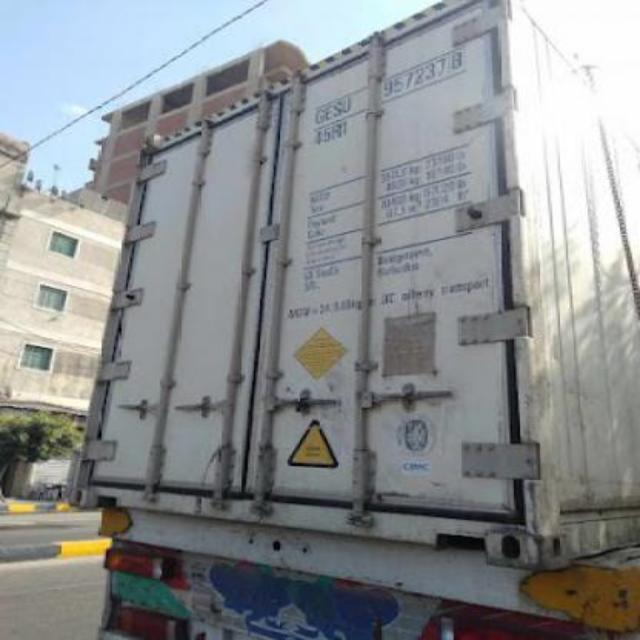2: (412, 57, 424, 83)
3: (426, 50, 436, 80)
5: (392, 68, 404, 94)
7: (404, 59, 414, 89), (436, 48, 446, 76)
8: (451, 46, 464, 70)
9: (378, 74, 394, 96)
E: (322, 100, 334, 124)
G: (310, 101, 326, 122)
S: (330, 94, 342, 116)
U: (341, 92, 354, 116)
